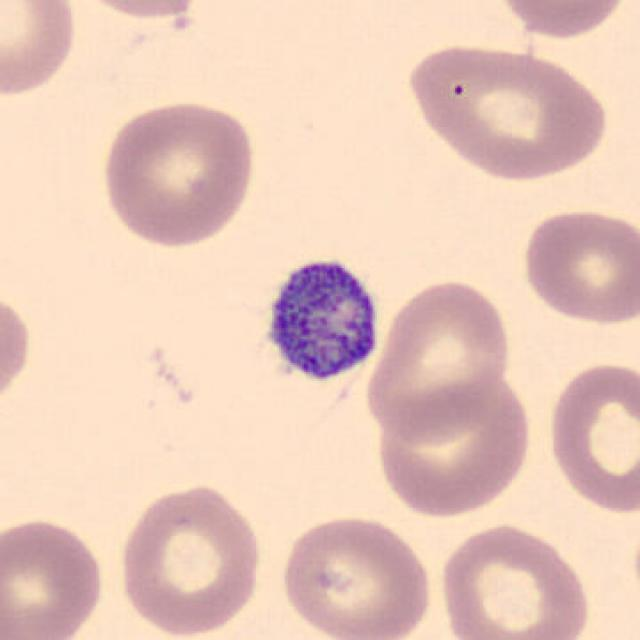Platelets: (242, 245, 388, 395)
RBC: (402, 39, 613, 185), (362, 273, 516, 441), (371, 367, 537, 522), (96, 96, 260, 250), (114, 480, 266, 638), (275, 509, 437, 640), (436, 520, 596, 640), (542, 356, 638, 518), (518, 203, 638, 328), (0, 513, 108, 640), (0, 0, 80, 100), (486, 0, 636, 41), (0, 284, 36, 418), (60, 0, 217, 21)
